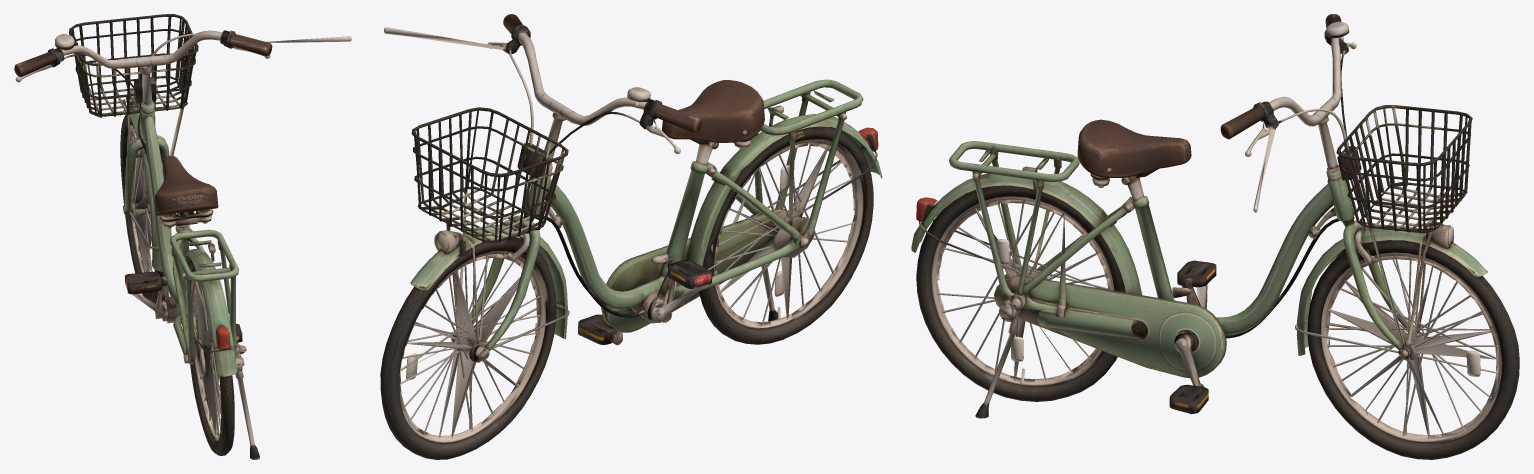
File: bicycle.glb
3 views of the same model, side by side, from view 1: azimuth 30°, elevation 25°; view 2: azimuth 150°, elevation 25°; view 3: azimuth 270°, elevation 25° (orthographic). The views are drawn at different scales.
Visible parts, largest first — view 1: tripo_node_52b50065-6d5a-49f4-9ba0-d453f45ee88c; view 2: tripo_node_52b50065-6d5a-49f4-9ba0-d453f45ee88c; view 3: tripo_node_52b50065-6d5a-49f4-9ba0-d453f45ee88c.
Part boxes in pixels (x1=…): tripo_node_52b50065-6d5a-49f4-9ba0-d453f45ee88c: x1=14, y1=14, x2=351, y2=459; tripo_node_52b50065-6d5a-49f4-9ba0-d453f45ee88c: x1=380, y1=14, x2=882, y2=459; tripo_node_52b50065-6d5a-49f4-9ba0-d453f45ee88c: x1=911, y1=14, x2=1519, y2=459.
Bounding box in the file's own units: 0.6655 × 0.6729 × 0.9995.
1 material, 1 textured.
